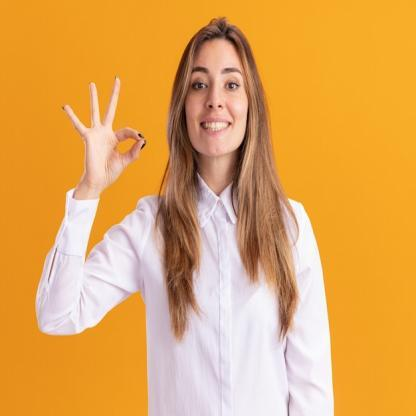ok: (62, 73, 151, 194)
